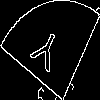Y: (25, 25, 63, 82)
